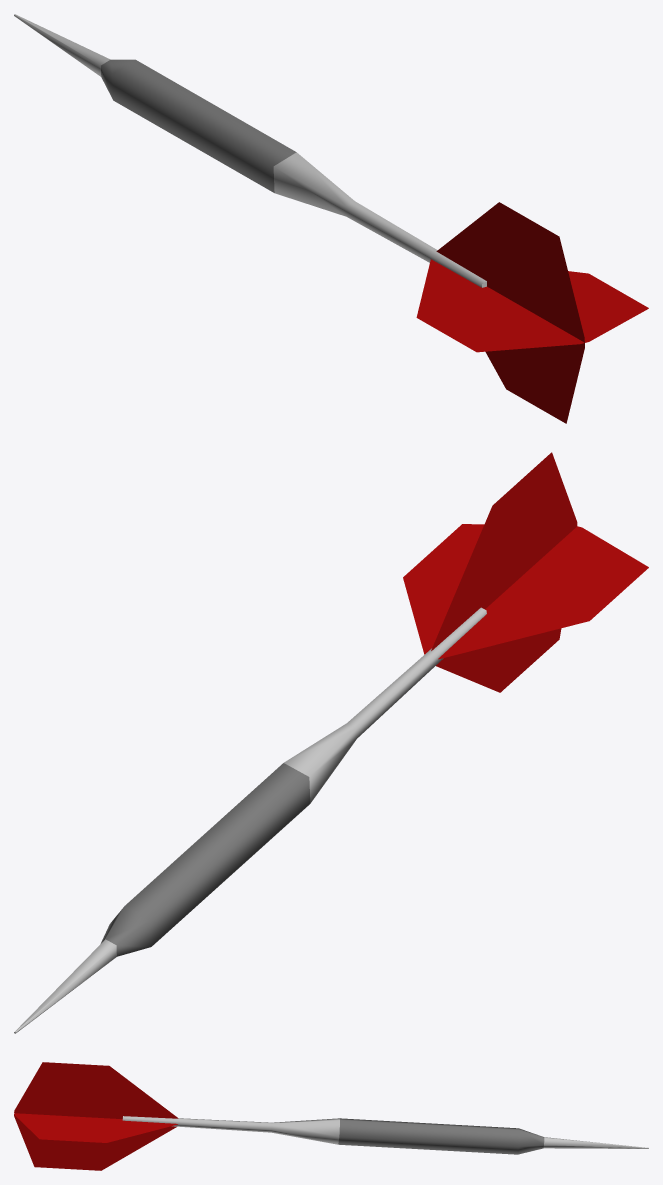
The model's file is RedDart.fbx.
3 views of the same model, one above another, from view 1: azimuth 30°, elevation 25°; view 2: azimuth 150°, elevation 25°; view 3: azimuth 270°, elevation 25° (orthographic). The views are drawn at different scales.
Parts seen in each view (by area): view 1: Dart_Red003; view 2: Dart_Red003; view 3: Dart_Red003.
Part boxes in pixels (box(x1,y1,x2,y2)): Dart_Red003: box(14, 14, 648, 423); Dart_Red003: box(14, 452, 648, 1033); Dart_Red003: box(14, 1062, 648, 1170).
Bounding box in the file's own units: 4.98 × 5.11 × 26.94.
